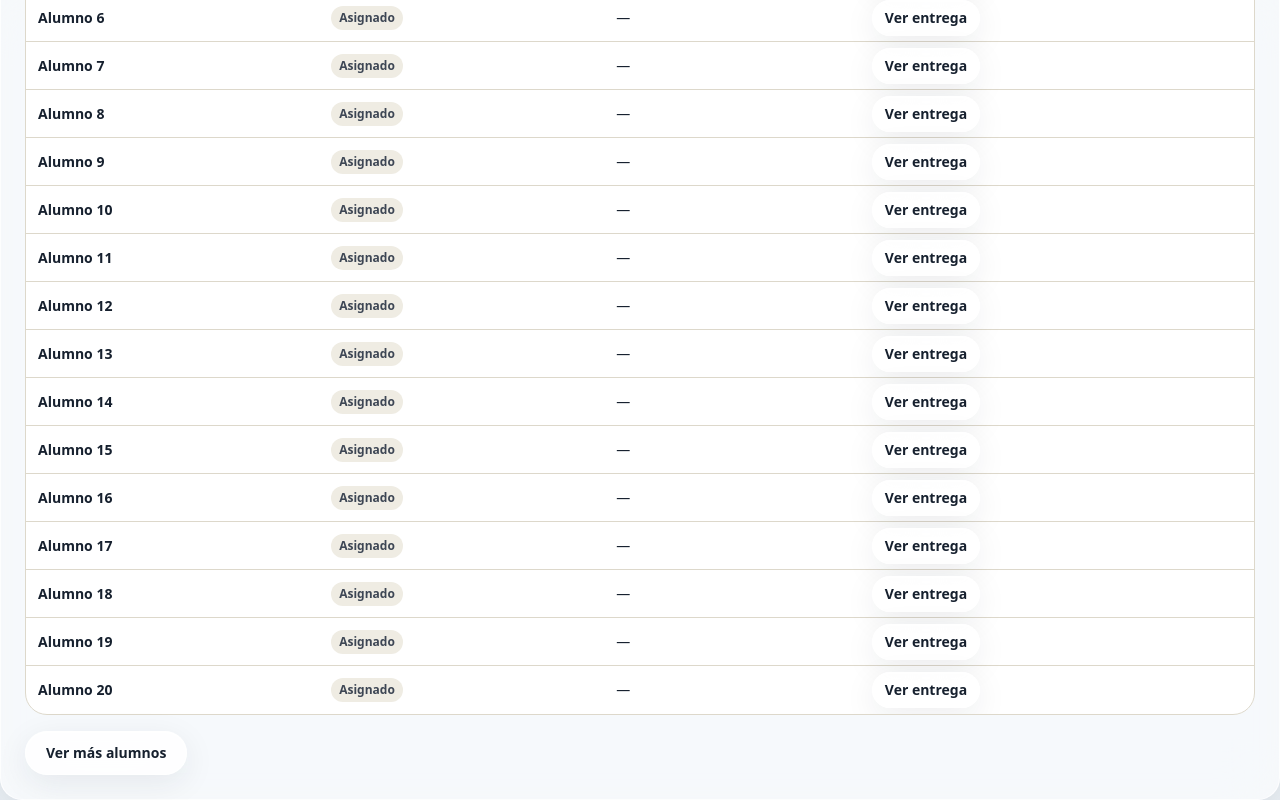
Test: ataque ENTREGAS-01e r1: «Ver más alumnos» (T-r1-3) y el conteo (T-r1-5) › el 400 del cursor dice su texto, sin aviso, y no deja filas viejas a la vista
(page scrolled)
What coordinates should you click on to do the following:
click the button "Ver más alumnos"
I would click on:
 (106, 753)
Its box is [25,731,187,775].
(page scrolled)
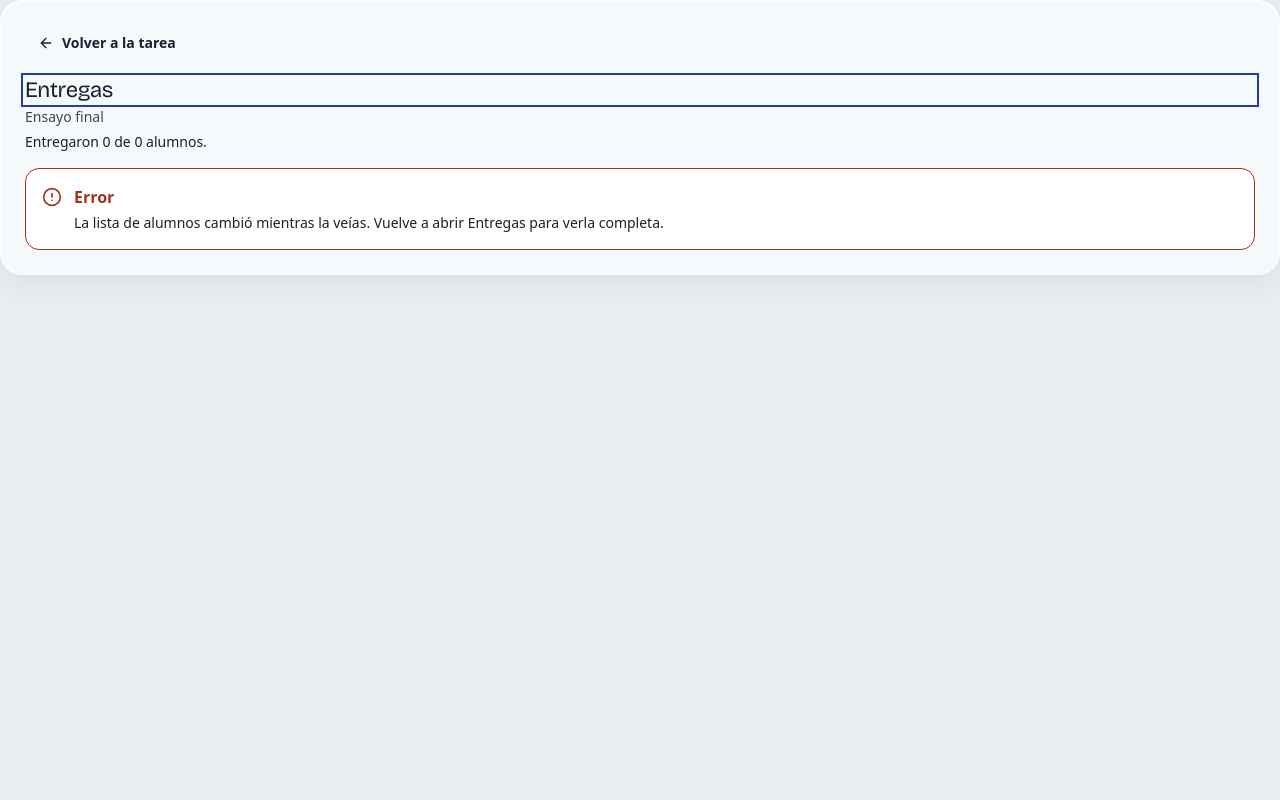
Expected: the text "La lista de alumnos cambió mientras la veías. Vuelve a abrir Entregas para verla completa." is shown, [74,213,664,232]
Expected: the button "Ver más alumnos" is gone
